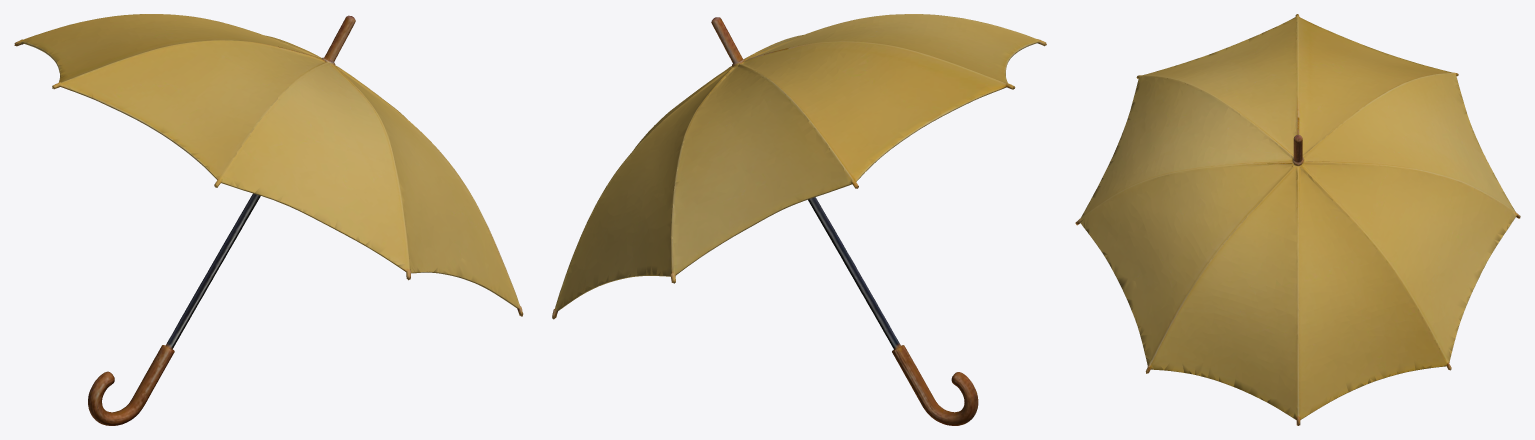
The model's file is tripo_convert_ad95732e-3e11-464f-b1ec-58fb28b89627.fbx.
3 renders of one model, left to right at view 1: azimuth 30°, elevation 25°; view 2: azimuth 150°, elevation 25°; view 3: azimuth 270°, elevation 25°, orthographic. The views are drawn at different scales.
Parts seen in each view (by area): view 1: tripo_node_ad95732e; view 2: tripo_node_ad95732e; view 3: tripo_node_ad95732e.
Part boxes in pixels (x1,y1,x2,y2): tripo_node_ad95732e: [14, 14, 523, 425]; tripo_node_ad95732e: [552, 14, 1046, 425]; tripo_node_ad95732e: [1075, 14, 1520, 425].
Size of the model in its own units: 89.89 by 97.88 by 72.79.
Materials: 1 (1 with a texture image).
